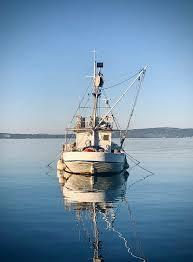fishing boat: (39, 45, 164, 180)
